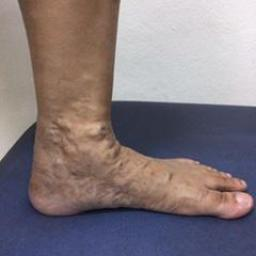Medial View -Left Foot-: (18, 111, 255, 232)
